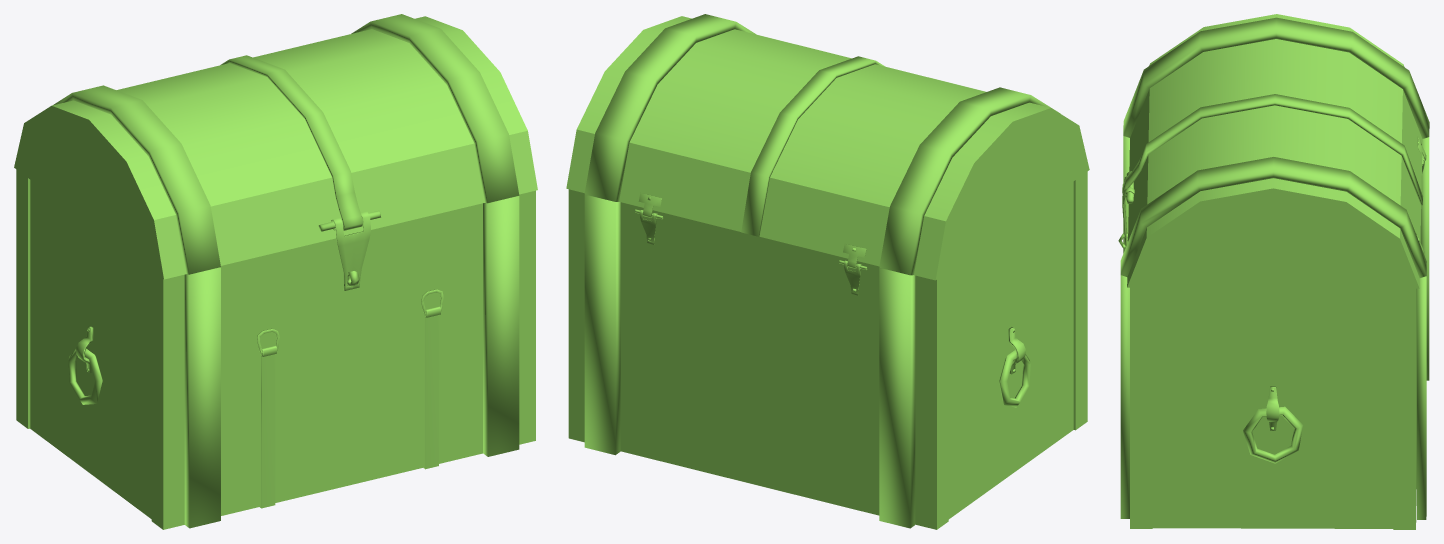
Rendered from Chest_1_M.fbx.
The picture shows the model from 3 angles, left to right: view 1: azimuth 30°, elevation 25°; view 2: azimuth 150°, elevation 25°; view 3: azimuth 270°, elevation 25°; orthographic projection. The views are drawn at different scales.
Visible parts, largest first — view 1: Chest_1_LOD0; view 2: Chest_1_LOD0; view 3: Chest_1_LOD0.
Boxes of the visible parts, box(x1,y1,x2,y2) form: Chest_1_LOD0: box(14, 14, 537, 529); Chest_1_LOD0: box(566, 14, 1089, 529); Chest_1_LOD0: box(1118, 14, 1429, 529).
Size of what is drawn, in the model's own units: 83.47 by 73.88 by 59.66.
